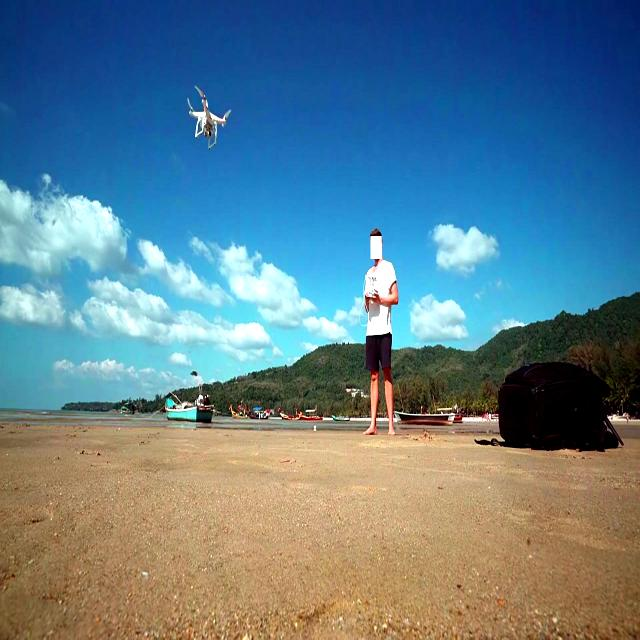drone: (185, 85, 233, 152)
